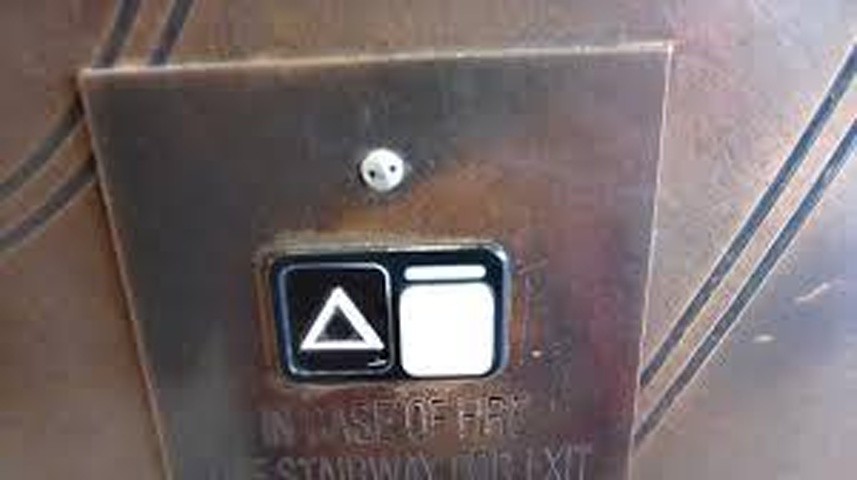up: (250, 234, 516, 393)
